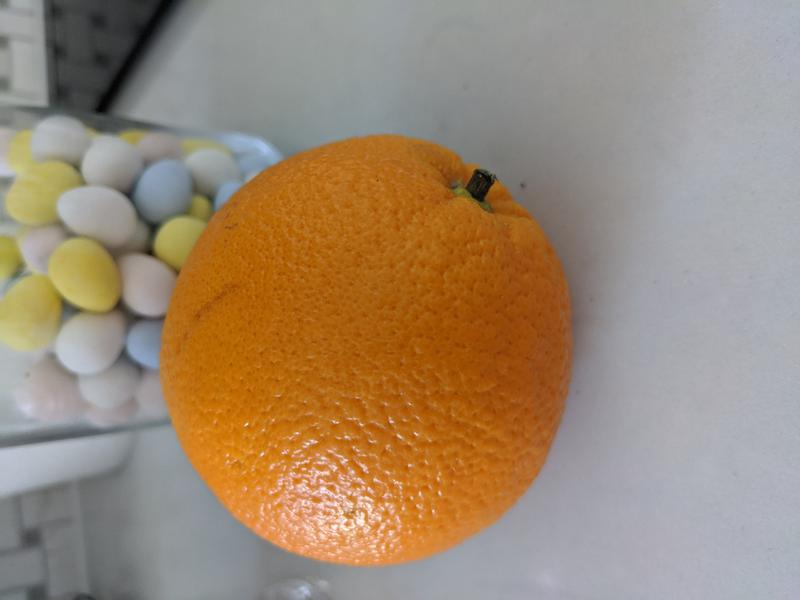orange: (158, 133, 576, 567)
